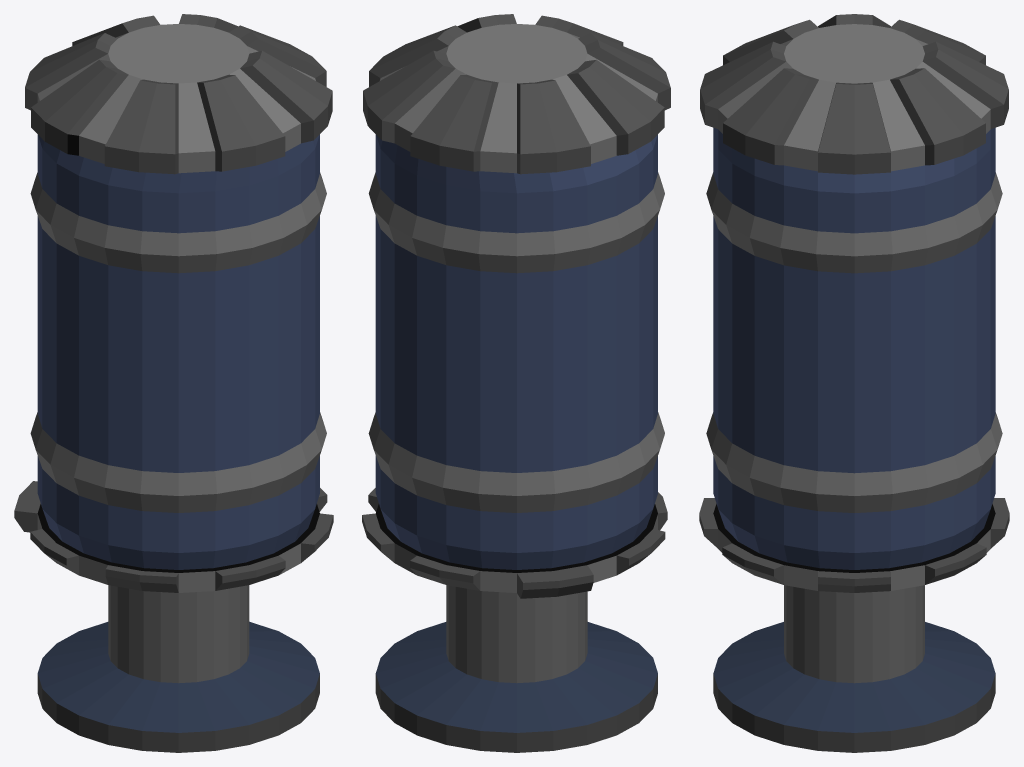
File: Tank.fbx
3 renders of one model, left to right at view 1: azimuth 30°, elevation 25°; view 2: azimuth 150°, elevation 25°; view 3: azimuth 270°, elevation 25°, orthographic.
Visible parts, largest first — view 1: Tank; view 2: Tank; view 3: Tank.
Boxes of the visible parts, x1,y1,x2,y2 form: Tank: (14, 14, 333, 752); Tank: (362, 14, 670, 752); Tank: (699, 14, 1009, 752).
Size of the model in its own units: 110 by 252 by 110.
